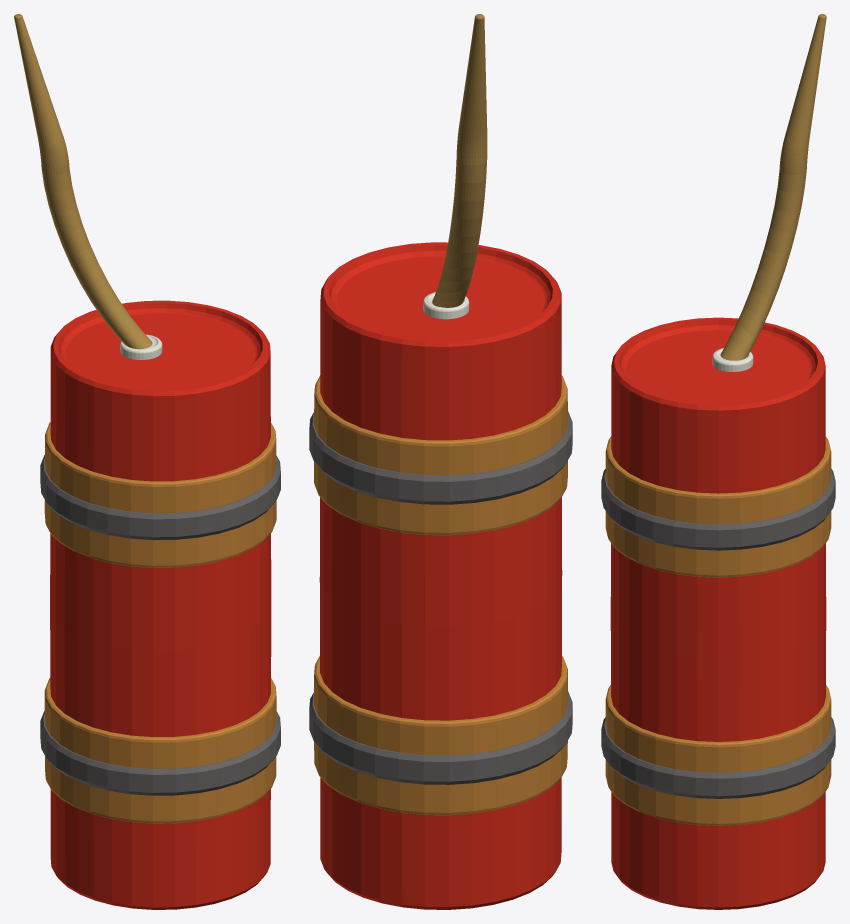
File: tnt.fbx
3 views of the same model, side by side, from view 1: azimuth 30°, elevation 25°; view 2: azimuth 150°, elevation 25°; view 3: azimuth 270°, elevation 25° (orthographic). The views are drawn at different scales.
Visible parts, largest first — view 1: TNT; view 2: TNT; view 3: TNT.
Part boxes in pixels (x1,y1,x2,y2): TNT: (14,14,280,909); TNT: (309,14,572,909); TNT: (601,14,835,909).
Bounding box in the file's own units: 0.0463 × 0.1764 × 0.0463.
